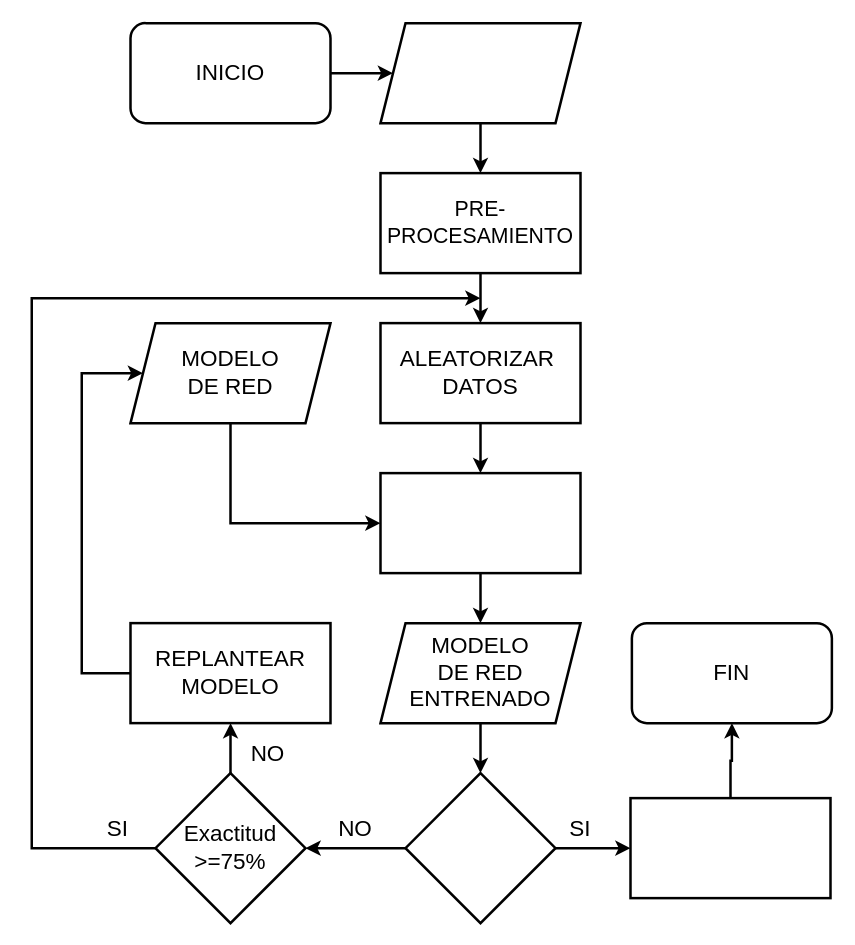
Image size: 855x945. Some labels were removed from this diagram. The box of each missing label's shape, as (x1, y1, x2, y2) in pixels:
ALMACENAR MODELO: (629, 796, 831, 899)
DATASET: (379, 21, 581, 124)
ENTRENAMIENTO: (379, 471, 581, 574)
Funcional?: (404, 771, 556, 924)
